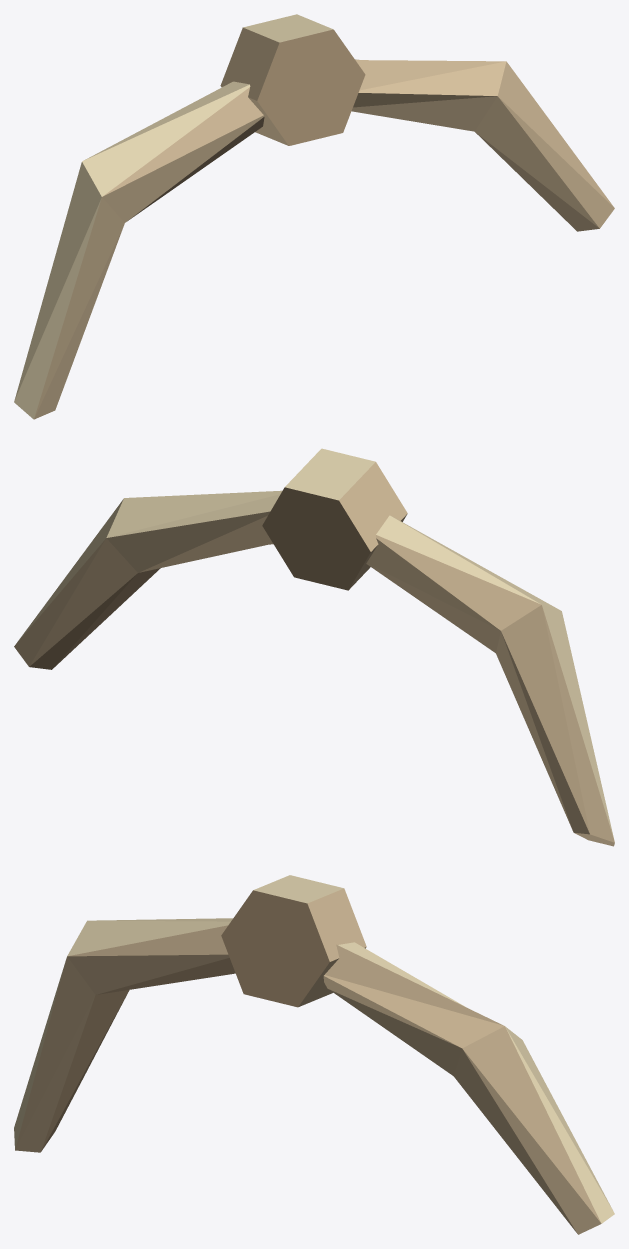
Rendered from TB_D_Env_BoneF_A.FBX.
3 views of the same model, one above another, from view 1: azimuth 30°, elevation 25°; view 2: azimuth 150°, elevation 25°; view 3: azimuth 330°, elevation 25° (orthographic).
Parts seen in each view (by area): view 1: TB_D_Env_BoneF_A; view 2: TB_D_Env_BoneF_A; view 3: TB_D_Env_BoneF_A.
Part boxes in pixels (box(x1,y1,x2,y2)): TB_D_Env_BoneF_A: box(14, 14, 614, 419); TB_D_Env_BoneF_A: box(14, 448, 614, 846); TB_D_Env_BoneF_A: box(14, 875, 614, 1234).
Size of the model in its own units: 3.31 by 1.71 by 0.4465.
